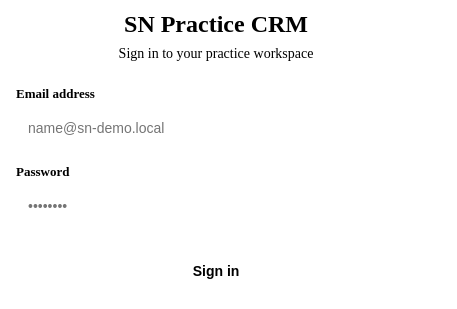
SignInGate Component › TC-SIG-02: Disables submit button and shows loading state while submission is pending
Step 1. Type "test@sn-demo.local" into the field labelled "Email address" → (228, 128), box [16,108,440,148]
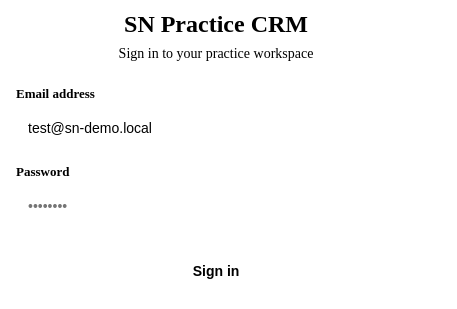
Step 2. Type "secret123" into the password field labelled "Password" → (228, 206), box [16,186,440,226]
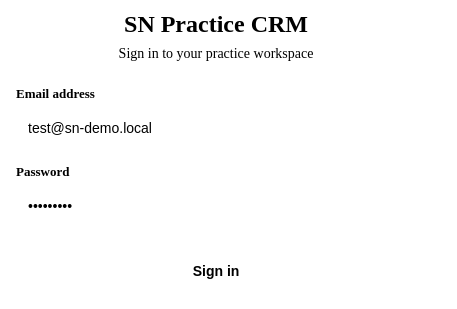
Step 3. Click the button "Sign in" → (216, 271), box [16,250,416,292]
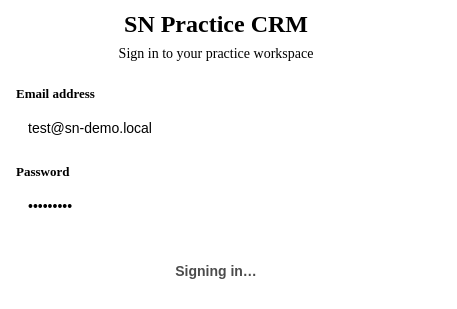
Check: the button "Signing in…" is disabled, box [16,250,416,292]
